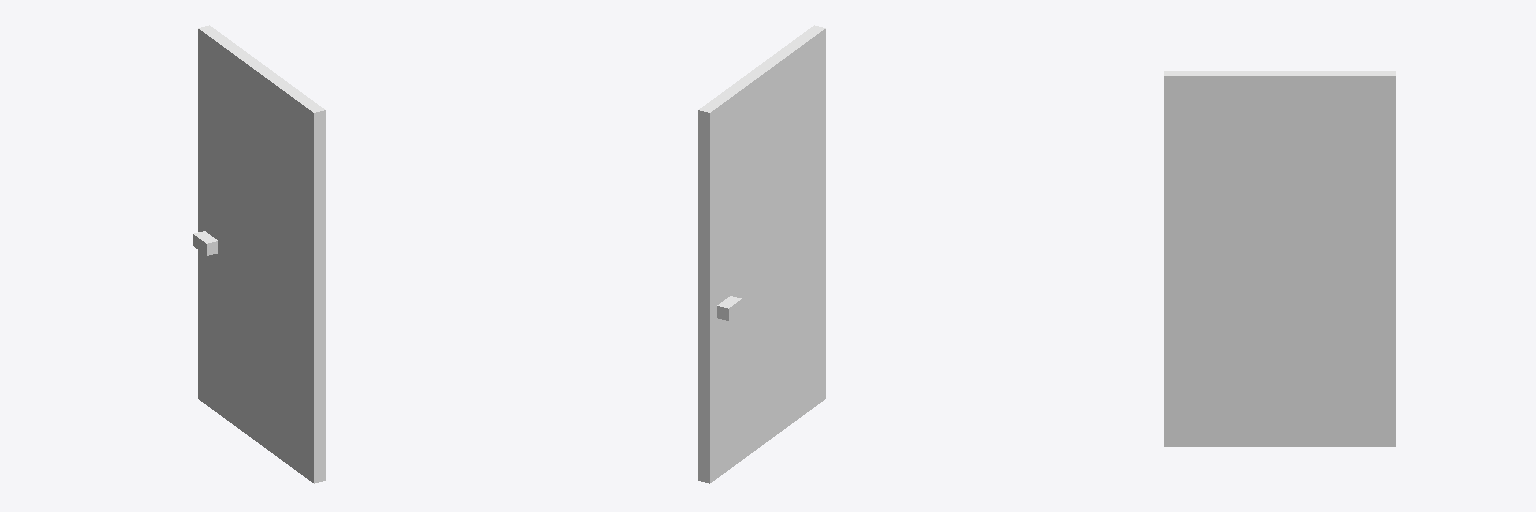
File: Kitchen-21-Door.obj
3 views of the same model, side by side, from view 1: azimuth 30°, elevation 25°; view 2: azimuth 150°, elevation 25°; view 3: azimuth 270°, elevation 25° (orthographic).
Visible parts, largest first — view 1: Door; view 2: Door; view 3: Door.
Boxes of the visible parts, x1=… form: Door: x1=193, y1=25, x2=325, y2=483; Door: x1=698, y1=25, x2=825, y2=483; Door: x1=1164, y1=71, x2=1395, y2=446.
Size of the model in its own units: 0.2 by 3 by 1.7.